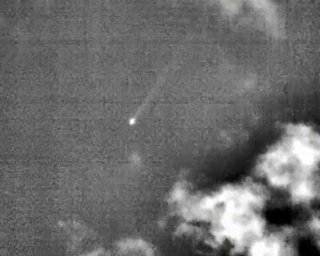AIRPLANE: (122, 54, 197, 132)
